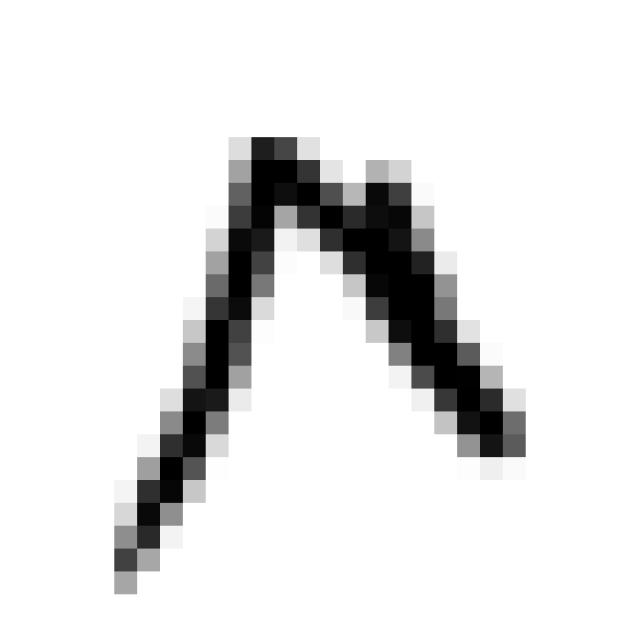8 -eight-: (89, 110, 543, 604)
